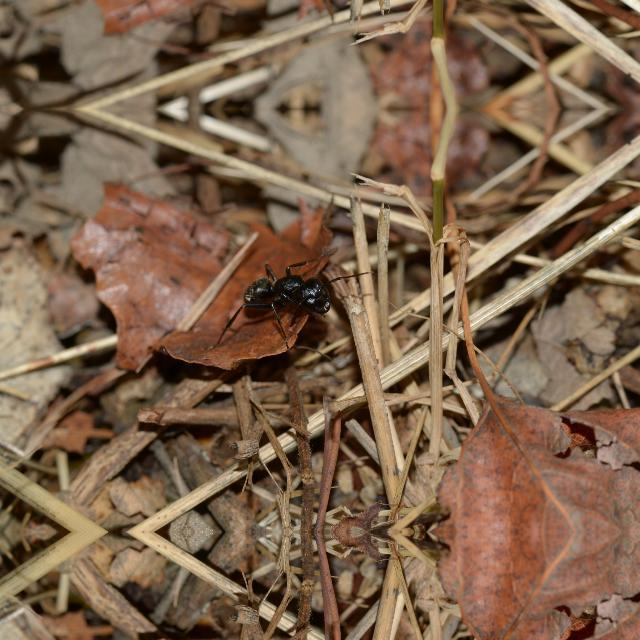Camponotus: (210, 241, 352, 341)
